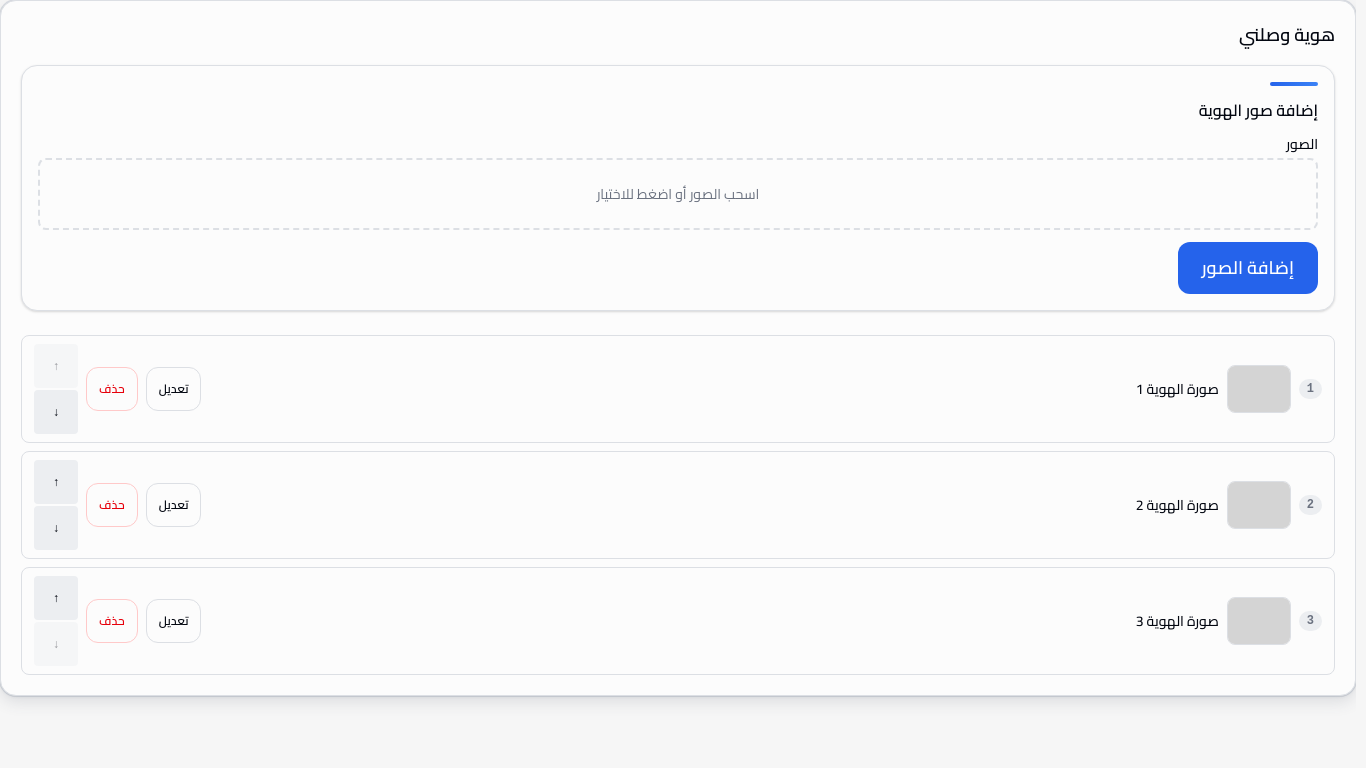
Test: IdentityAdmin brand-identity image panel › restores the previous row order and surfaces an error when a reorder persist rejects
The width and height of the screenshot is (1366, 768).
Expected: the list item with test id "identity-card-0" is shown, [21,335,1335,443]
Click the button with test id "identity-move-down-0".
click(56, 412)  # box [34,390,78,434]
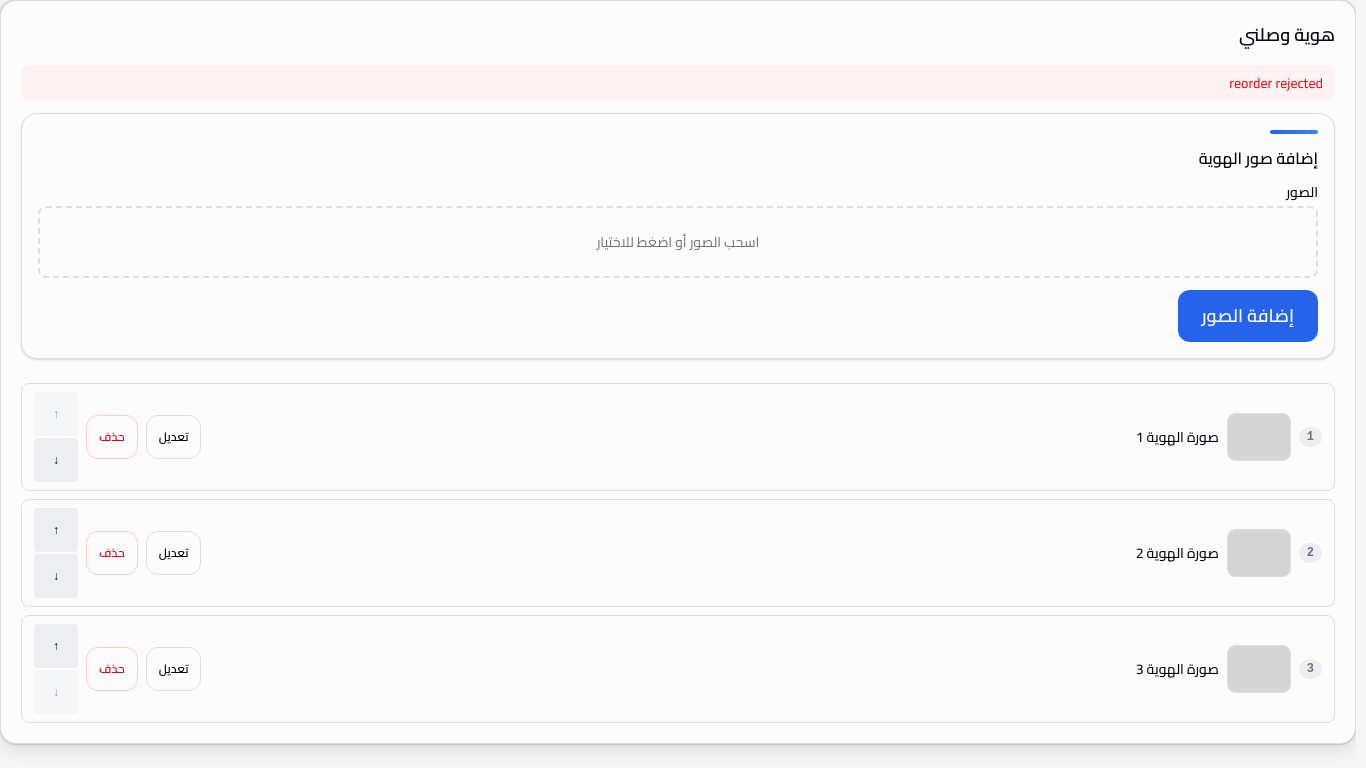
Expected: the message "reorder rejected" is shown, [21,65,1335,101]
